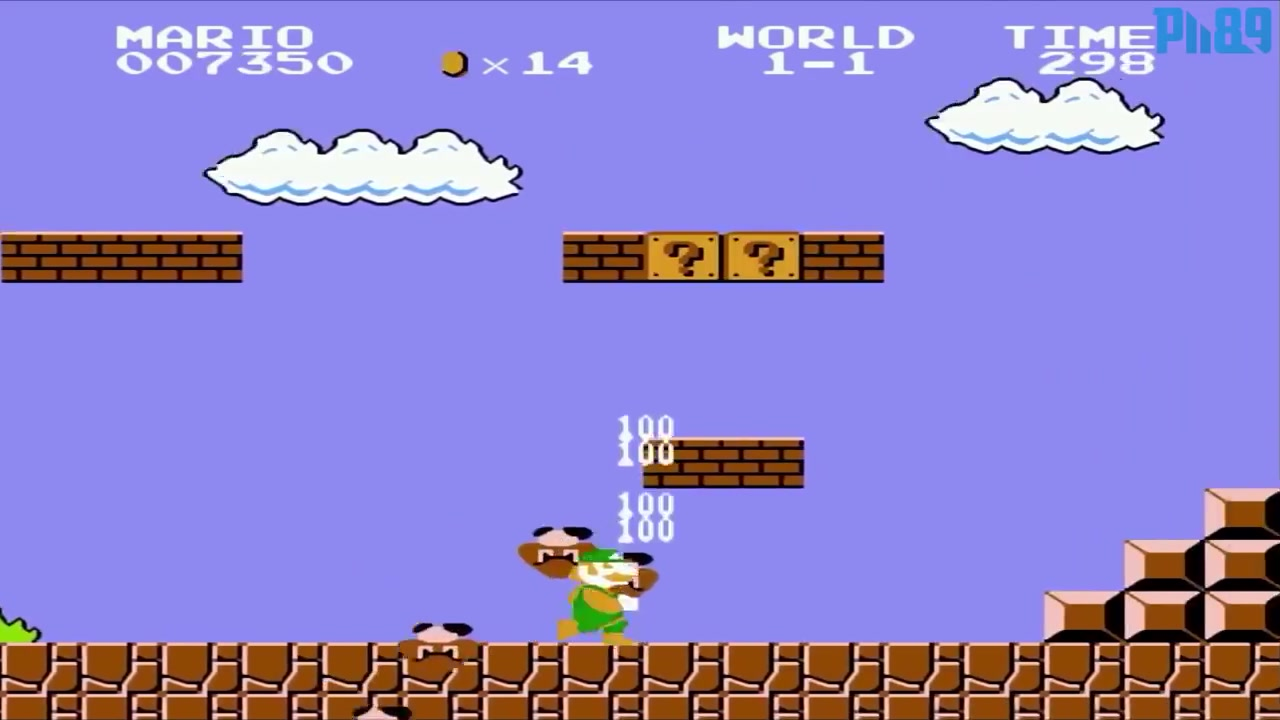mario: (549, 543, 649, 650)
